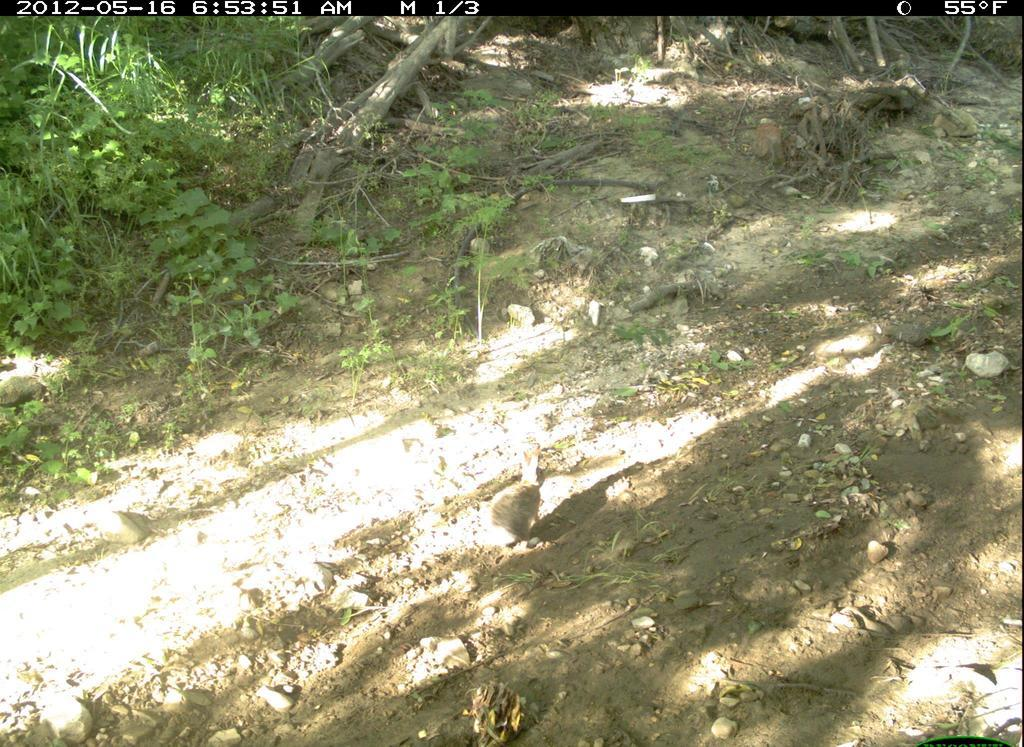rabbit: (470, 434, 561, 539)
